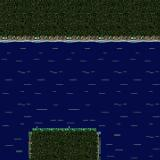Interaction: (0, 27, 160, 52)
Slow: (101, 42, 160, 160), (26, 43, 101, 127), (0, 43, 26, 160)
